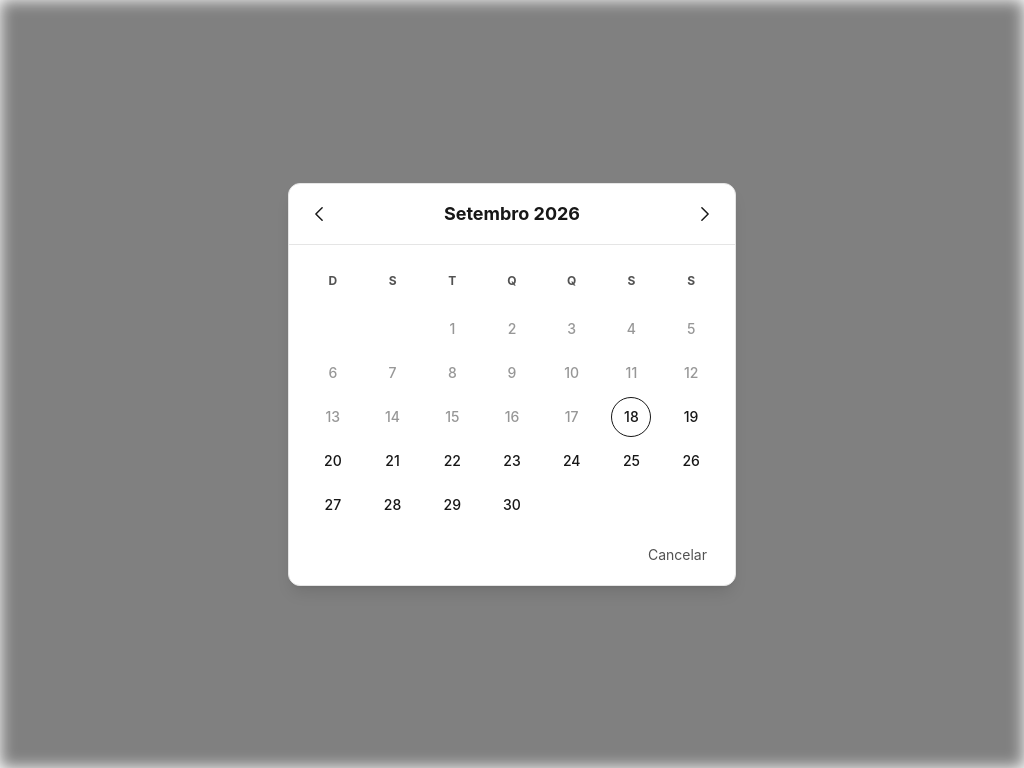
Test case: DatePickerModal › navega para o mês seguinte
The image size is (1024, 768).
What coordinates should you click on to do the following:
click the button named "Próximo mês"
I would click on:
 (705, 214)
Its box is [691,200,719,228].
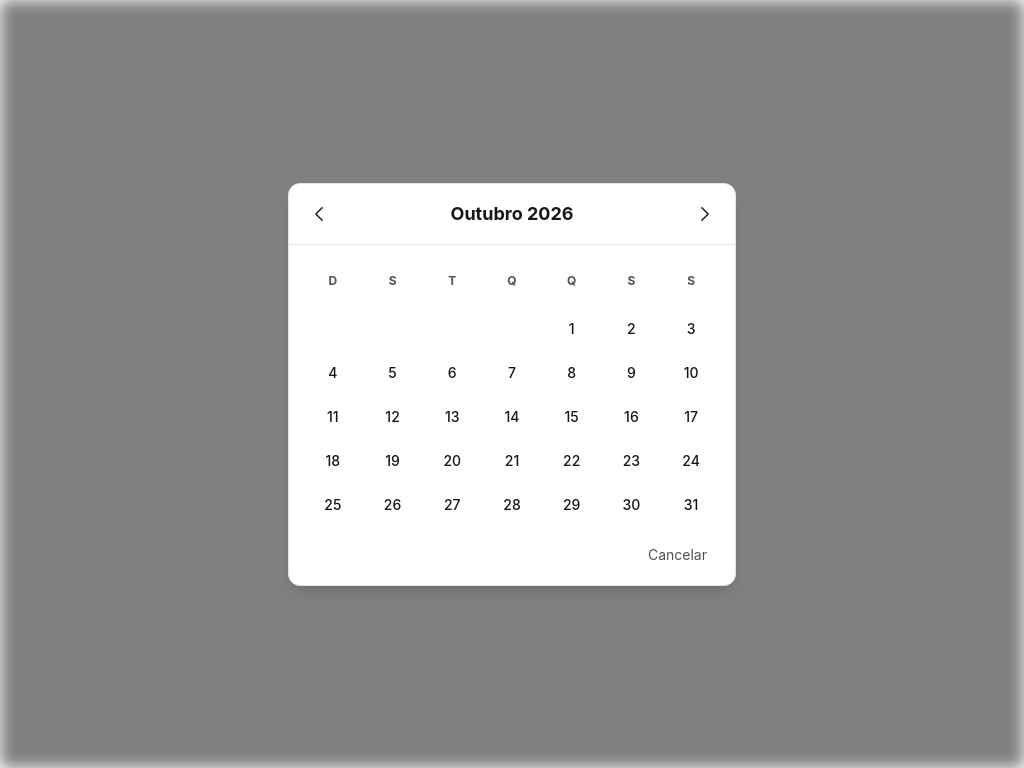
Expected: the heading "outubro 2026" is shown, [450,200,573,228]
